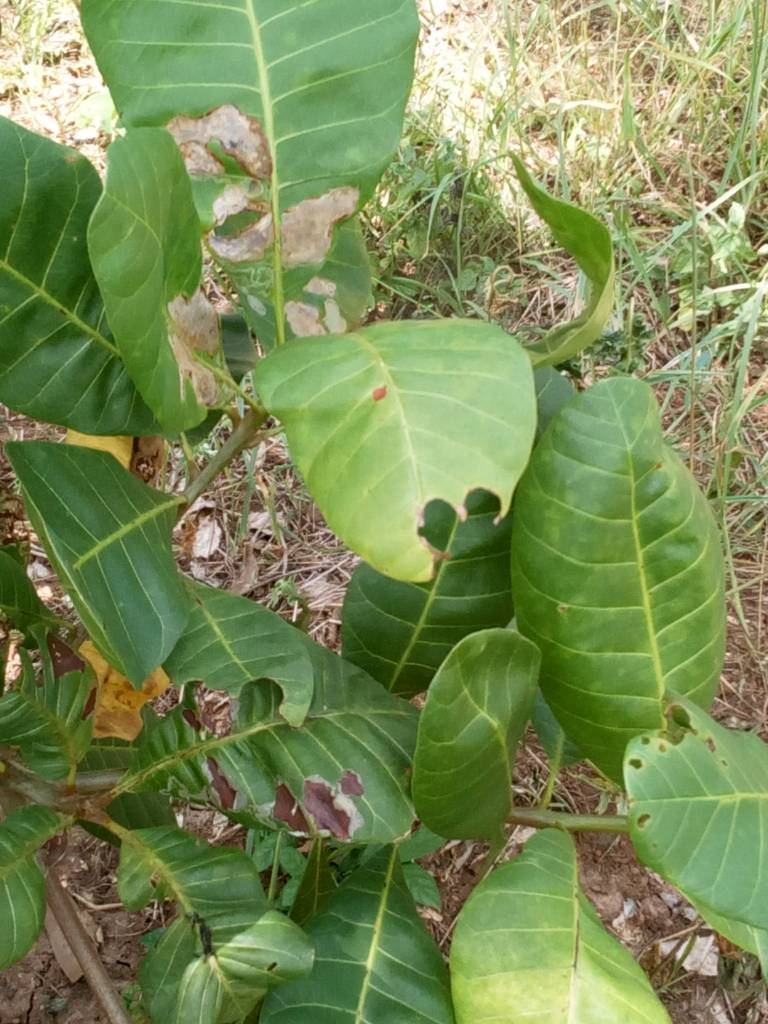Dysdercus wolkerii: (72, 2, 443, 322)
